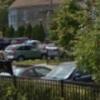cars: (5, 43, 48, 62)
